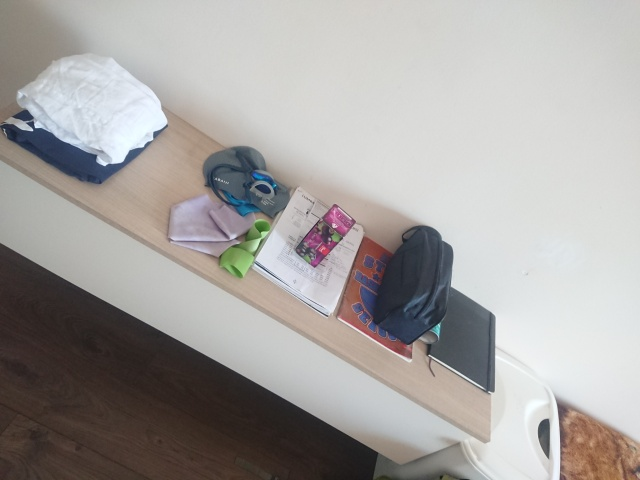Franck Black Currant Tea 60g: (293, 202, 358, 268)
